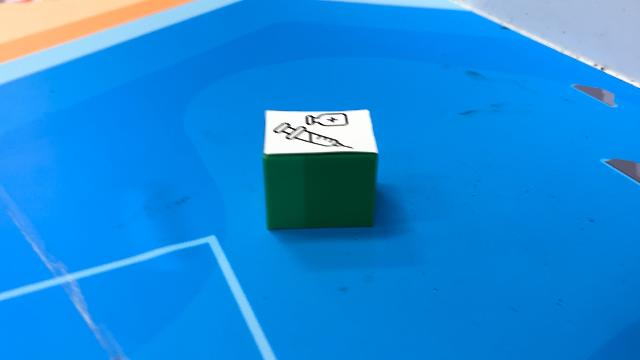syringe: (262, 108, 378, 229)
